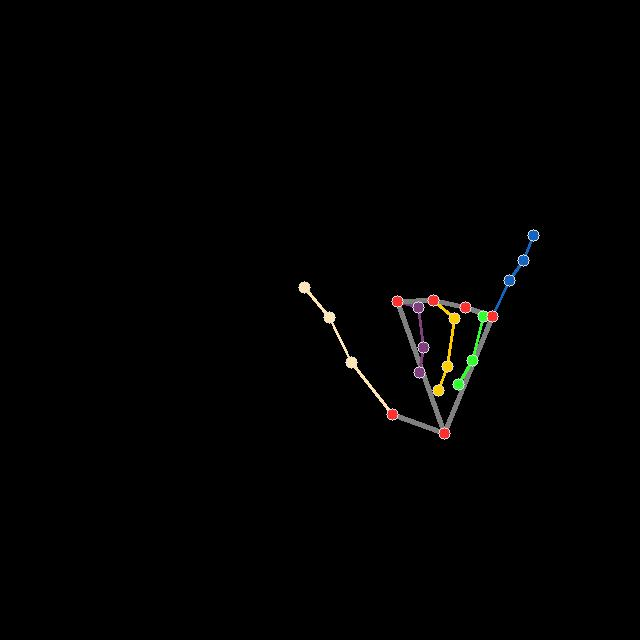skr: (296, 227, 541, 440)
